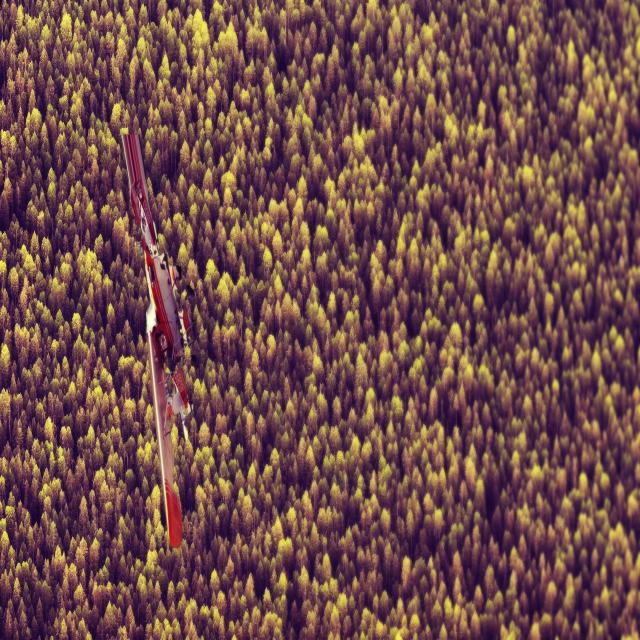airplane: (120, 131, 193, 548)
